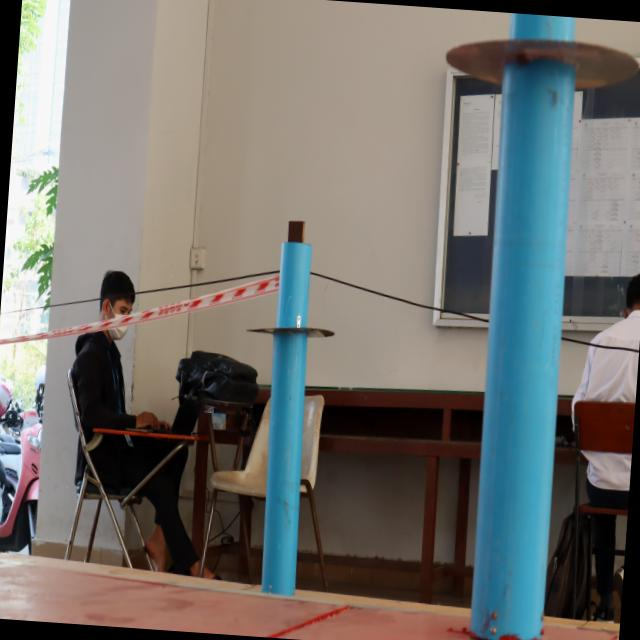pole: (426, 7, 640, 194), (234, 216, 346, 454)
